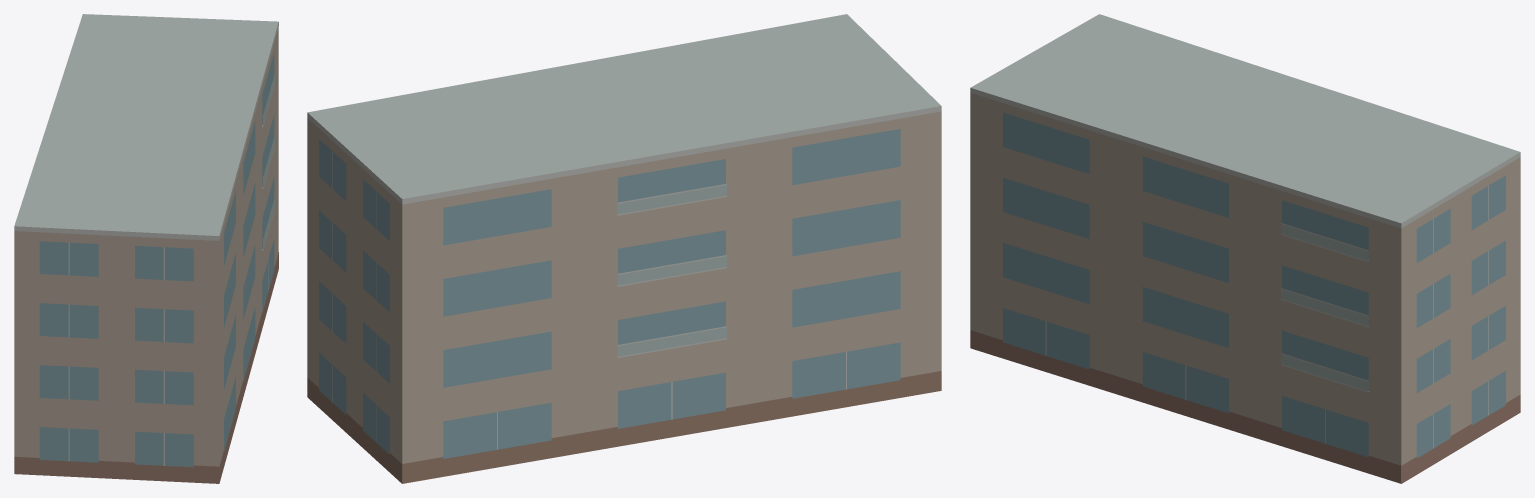
File: survey-upis-32641448.glb
3 renders of one model, left to right at view 1: azimuth 30°, elevation 25°; view 2: azimuth 150°, elevation 25°; view 3: azimuth 270°, elevation 25°, orthographic. The views are drawn at different scales.
Visible parts, largest first — view 1: survey-upis-32641448.tmp; view 2: survey-upis-32641448.tmp; view 3: survey-upis-32641448.tmp.
Boxes of the visible parts, x1,y1,x2,y2 form: survey-upis-32641448.tmp: (14, 14, 278, 483); survey-upis-32641448.tmp: (307, 14, 941, 483); survey-upis-32641448.tmp: (970, 14, 1520, 483).
Bounding box in the file's own units: 22.08 × 12.8 × 24.52.
